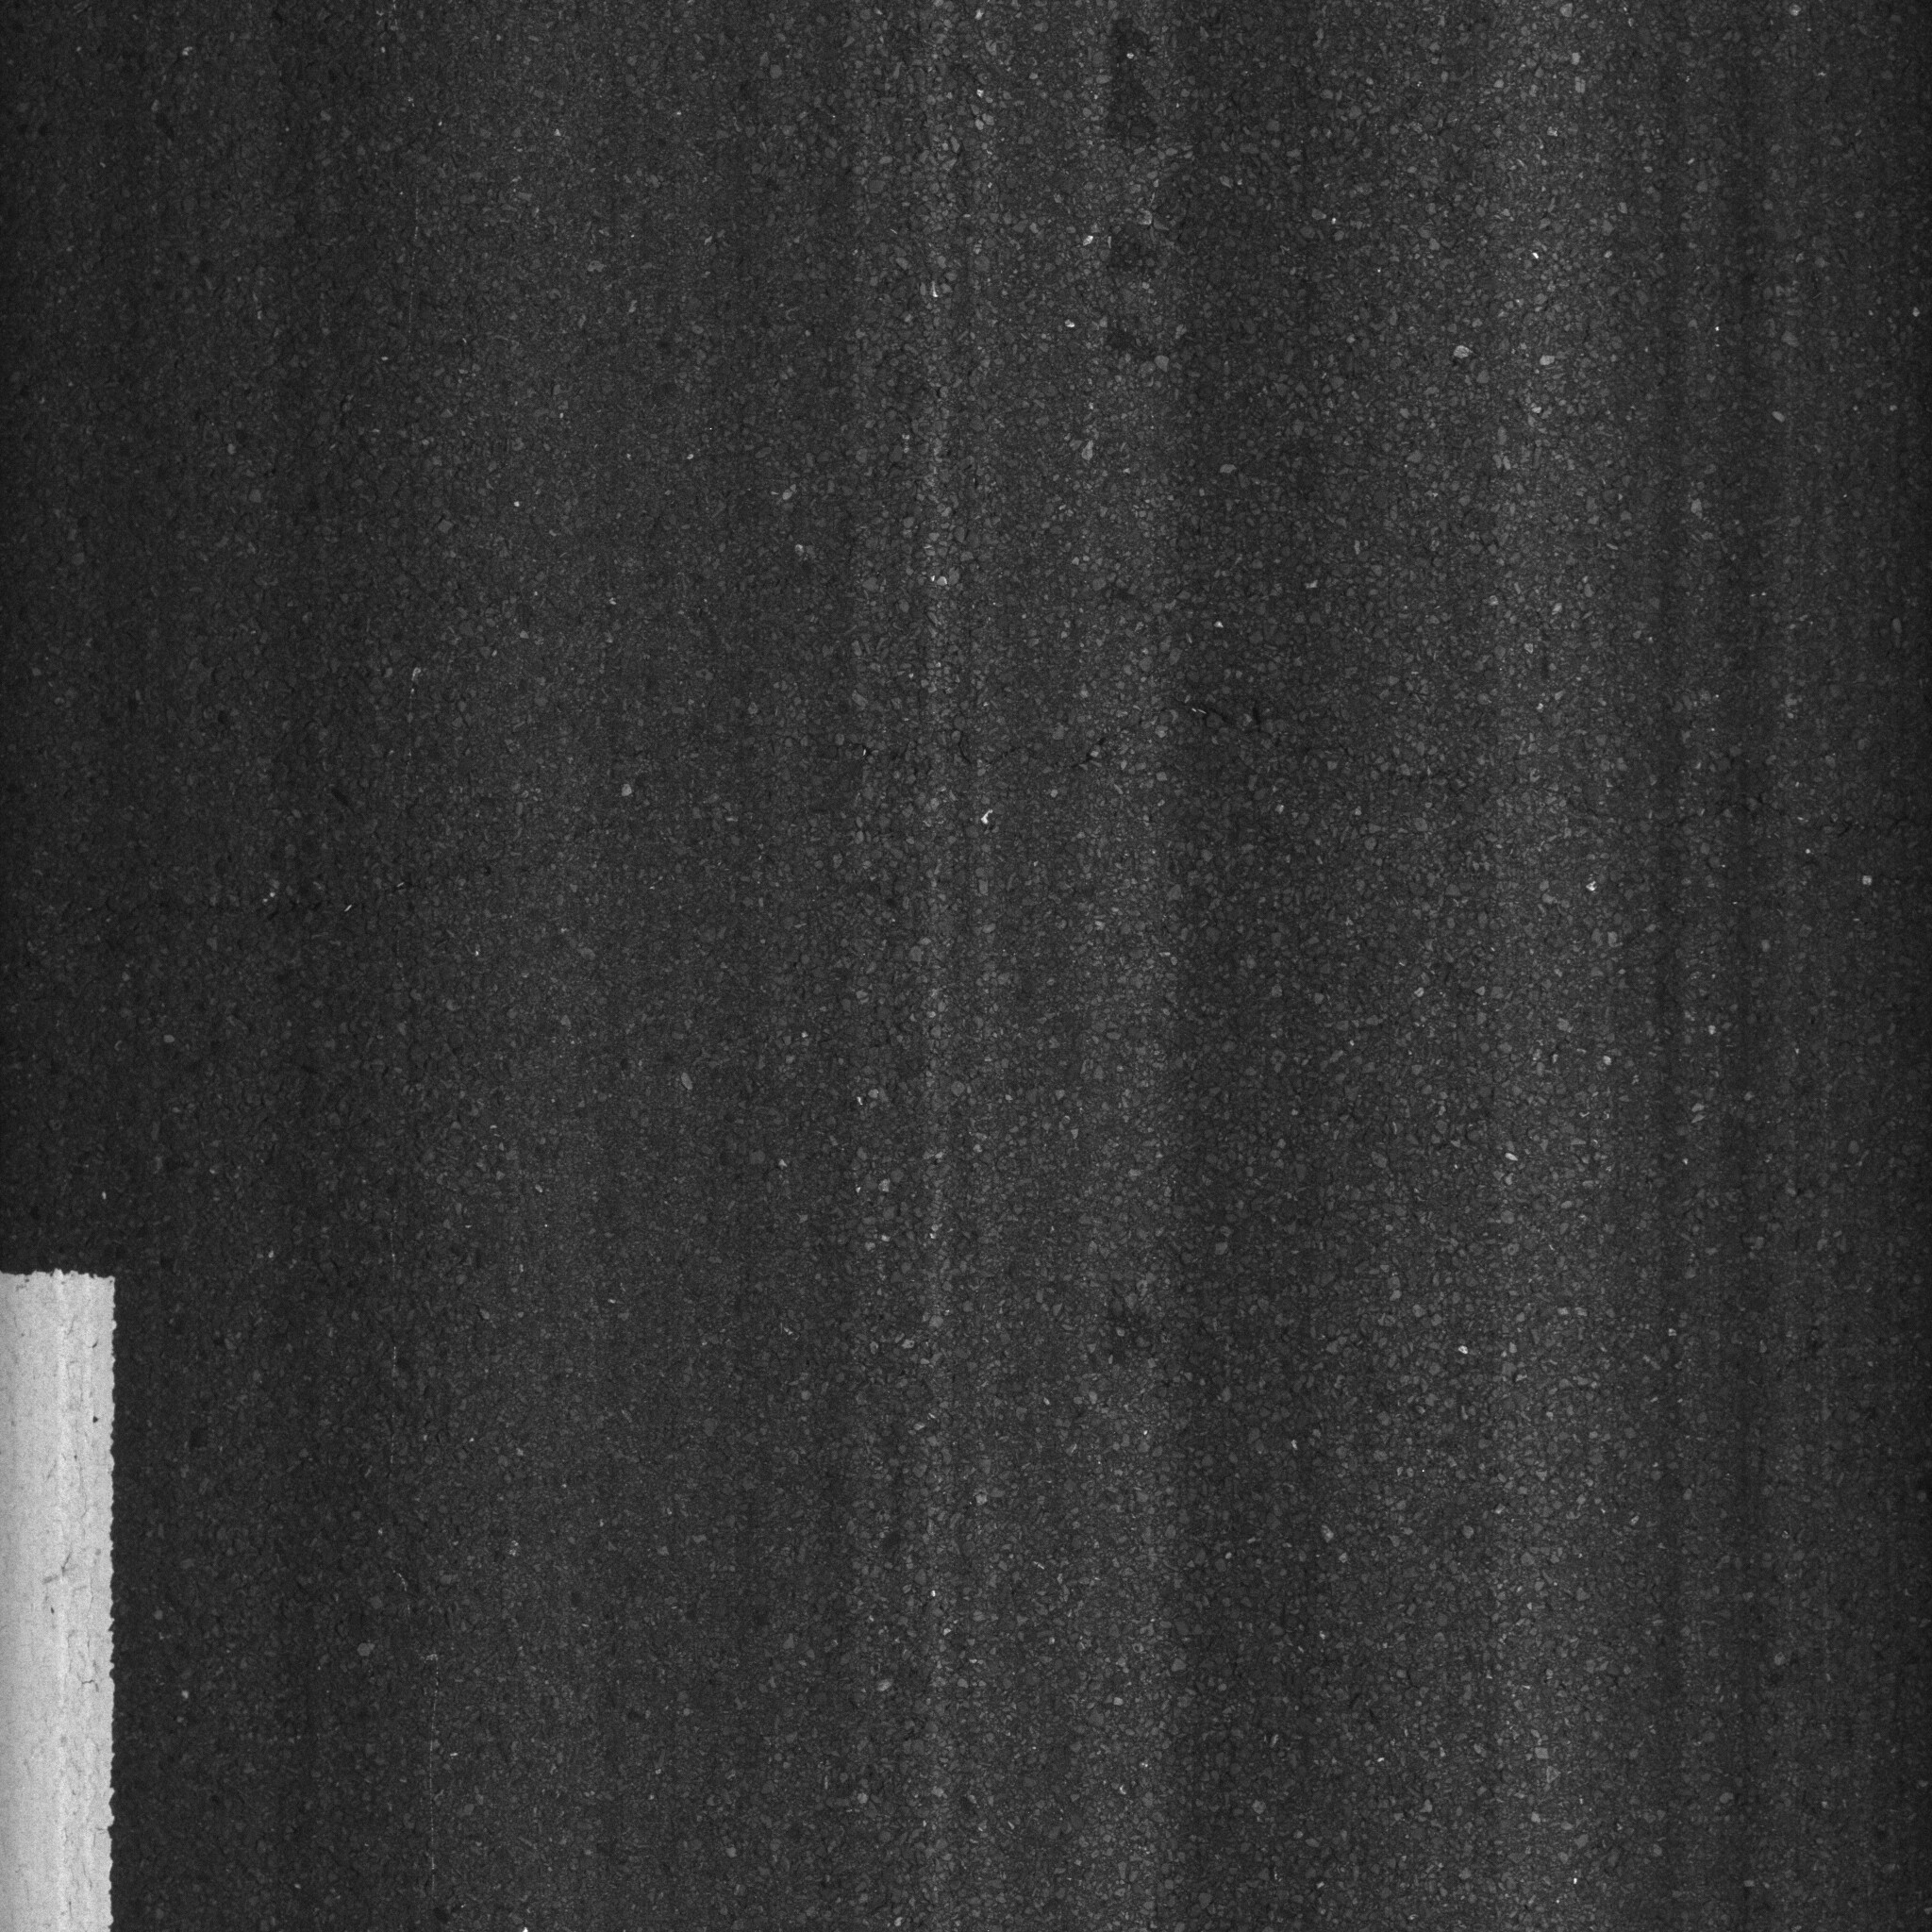transverse: (159, 775, 1578, 982)
